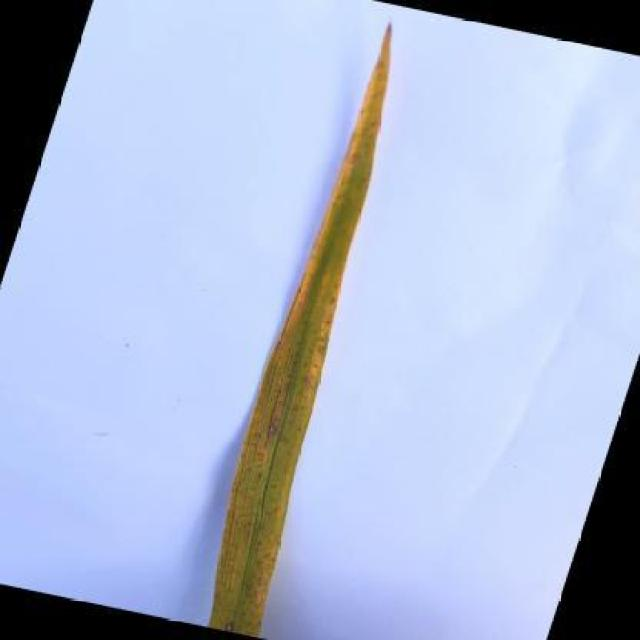Rice False Smut: (209, 25, 392, 636)
